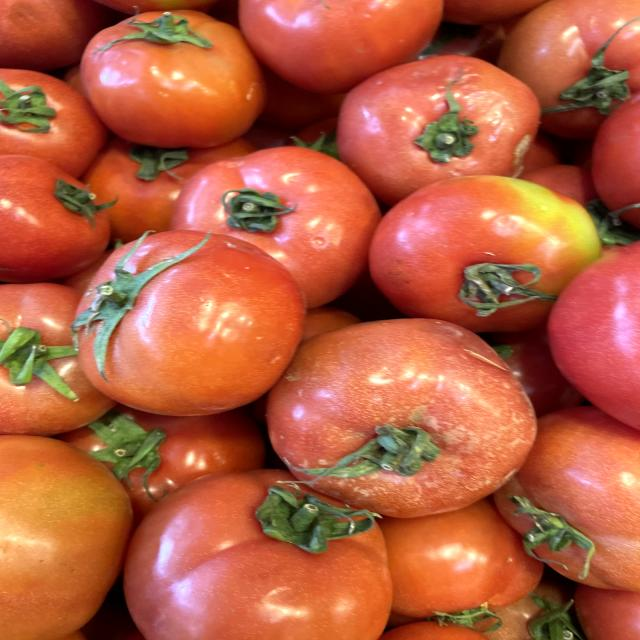tomato: (253, 301, 558, 513), (100, 459, 424, 640), (55, 227, 313, 414), (365, 168, 603, 326), (313, 51, 552, 191), (79, 7, 273, 148)
